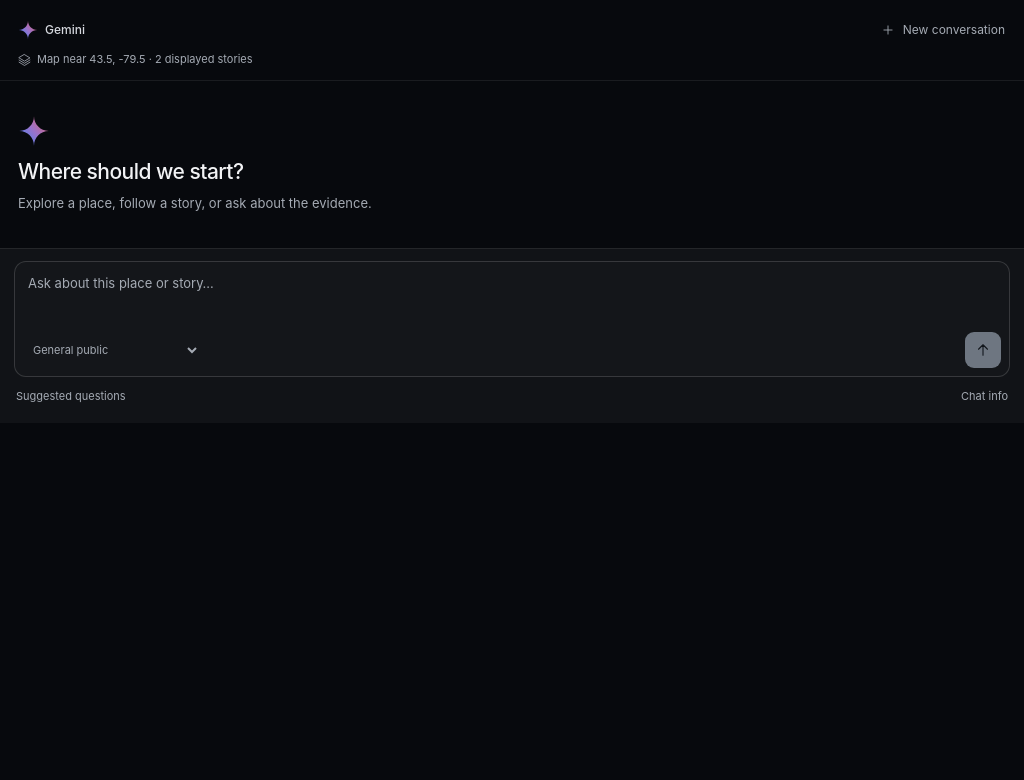
keeps an answer after panning and closing chat, then revalidates explicitly applied stale actions
Type "Show me this area" into the text box named "Your question". click: (512, 296)
box: [15, 262, 1009, 330]
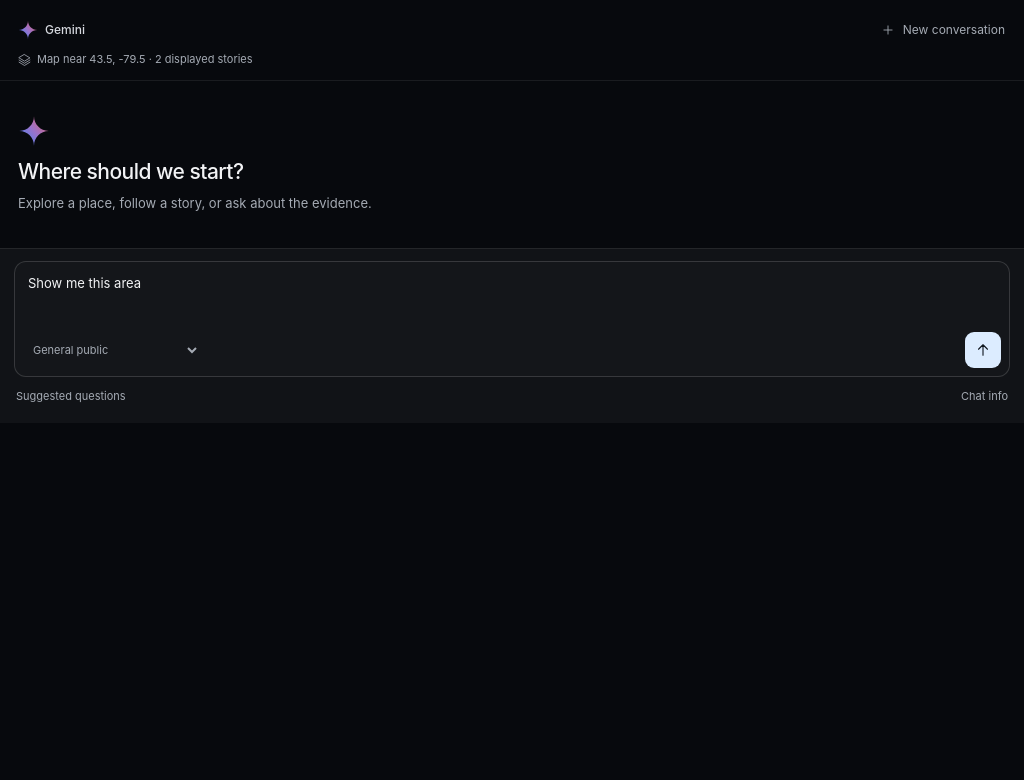
Click the button named "Send question". click: (983, 350)
box: [965, 332, 1001, 368]
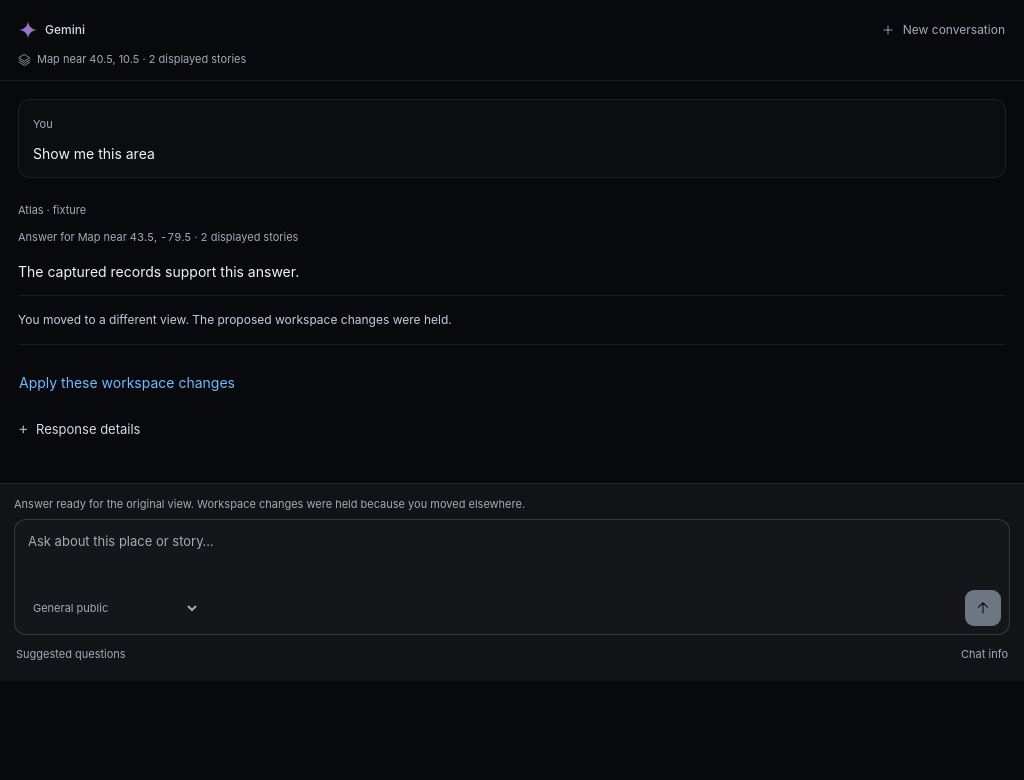
Now the text "The captured records support this answer." is shown, box [18, 263, 299, 280]
Now the text "Answer for Map near 43.5, -79.5 · 2 displayed stories" is shown, box [18, 230, 298, 244]
Click the button "Apply these workspace changes". click: (127, 383)
box: [18, 361, 236, 405]
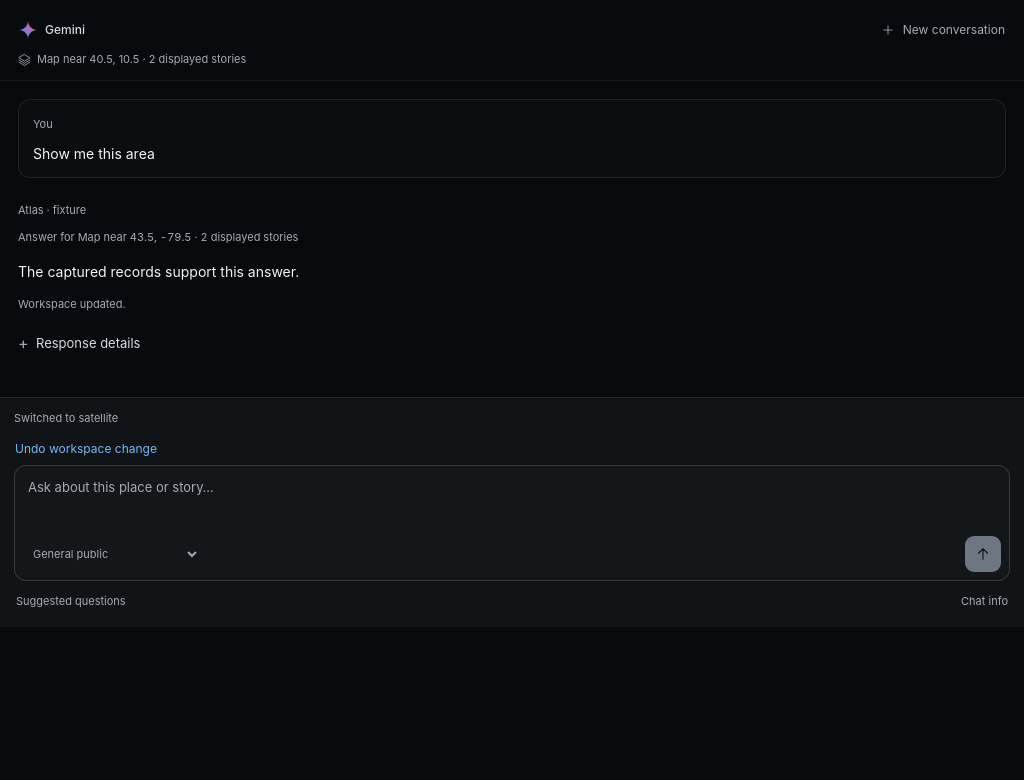
Now the text "Workspace updated." is shown, box [18, 297, 126, 311]
